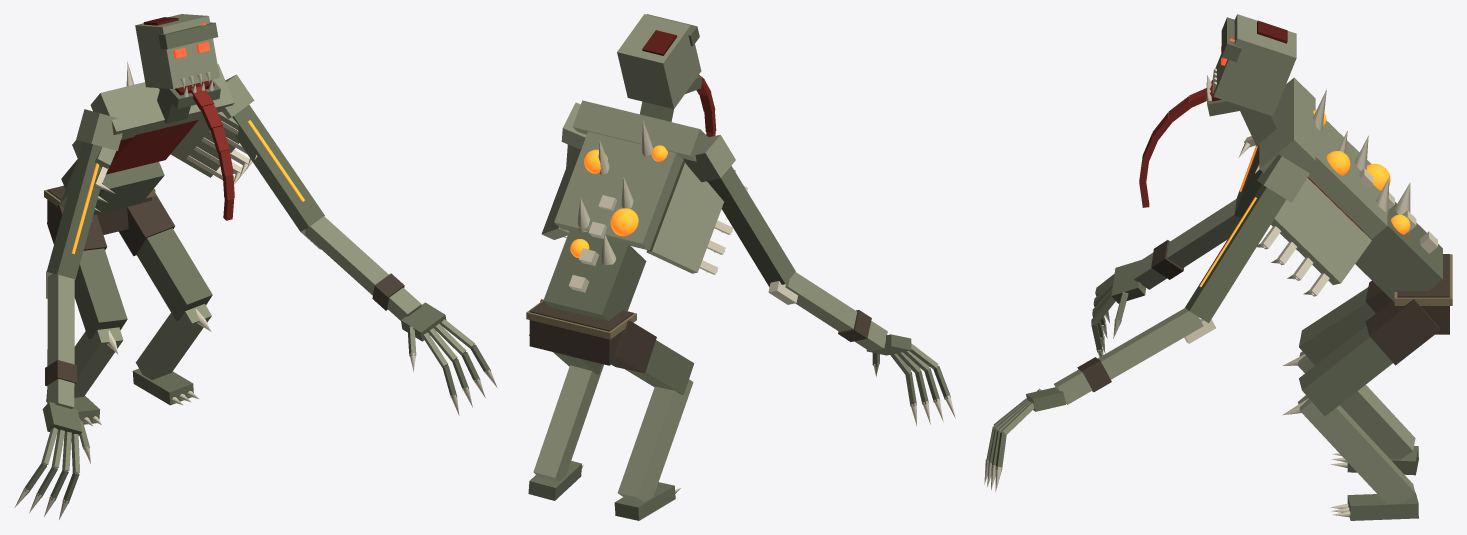
Rendered from zombie-el-atrapador.glb.
The picture shows the model from 3 angles, left to right: view 1: azimuth 30°, elevation 25°; view 2: azimuth 150°, elevation 25°; view 3: azimuth 270°, elevation 25°; orthographic projection. The views are drawn at different scales.
Parts seen in each view (by area): view 1: craneo, muslo_izq, brazo_m_izq, hombros, brazo_m_der, muslo_der, antebrazo_m_der, antebrazo_m_izq, espinilla_izq, abdomen, cavidad, espinilla_der (+14 smaller); view 2: espalda_pecho, abdomen, craneo, placa_pecho_der, espinilla_der, espinilla_izq, hombros, brazo_m_der, cadera, antebrazo_m_der, muslo_der, harapo_muslo_der (+10 smaller); view 3: placa_pecho_izq, craneo, abdomen, espinilla_izq, brazo_m_izq, muslo_izq, espalda_pecho, hombros, antebrazo_m_izq, antebrazo_m_der, harapo_muslo_izq, espinilla_der (+12 smaller).
Boxes of the visible parts, x1,y1,x2,y2 form: craneo: (135, 14, 219, 88); muslo_izq: (136, 228, 212, 320); brazo_m_izq: (232, 104, 324, 231); hombros: (90, 64, 234, 140); brazo_m_der: (46, 141, 101, 279); muslo_der: (74, 248, 127, 338); antebrazo_m_der: (47, 273, 74, 408); antebrazo_m_izq: (305, 216, 421, 320); espinilla_izq: (135, 304, 211, 379); abdomen: (61, 159, 164, 215); cavidad: (106, 120, 198, 174); espinilla_der: (74, 327, 123, 397); espalda_pecho: (554, 131, 683, 250); abdomen: (543, 230, 646, 320); craneo: (617, 14, 701, 108); placa_pecho_der: (646, 161, 735, 273); espinilla_der: (617, 379, 693, 502); espinilla_izq: (533, 364, 603, 481); hombros: (572, 100, 709, 161); brazo_m_der: (707, 166, 795, 286); cadera: (529, 301, 633, 365); antebrazo_m_der: (785, 272, 887, 351); muslo_der: (625, 340, 694, 394); harapo_muslo_der: (611, 320, 656, 373); placa_pecho_izq: (1271, 178, 1371, 284); craneo: (1213, 14, 1296, 116); abdomen: (1355, 202, 1442, 301); espinilla_izq: (1298, 395, 1415, 503); brazo_m_izq: (1185, 184, 1286, 322); muslo_izq: (1299, 325, 1392, 416); espalda_pecho: (1305, 120, 1387, 238); hombros: (1259, 77, 1315, 172); antebrazo_m_izq: (1054, 308, 1203, 404); antebrazo_m_der: (1133, 199, 1240, 289); harapo_muslo_izq: (1365, 299, 1440, 365); espinilla_der: (1298, 351, 1415, 459).
Bounding box in the file's own units: 2.04 × 1.95 × 1.78.
